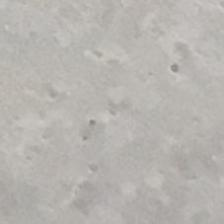Non_Crack: (40, 48, 223, 178)
